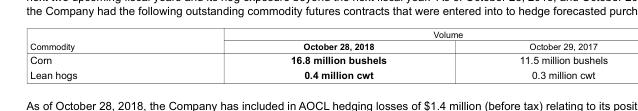table: (29, 28, 607, 80)
table column: (183, 28, 452, 80), (452, 28, 607, 80), (29, 28, 183, 80)
table column header: (29, 28, 607, 52)
table row: (29, 52, 607, 66), (29, 66, 607, 80), (29, 28, 607, 40), (29, 40, 607, 52)
table spanning cell: (183, 28, 607, 40), (29, 28, 183, 52)
